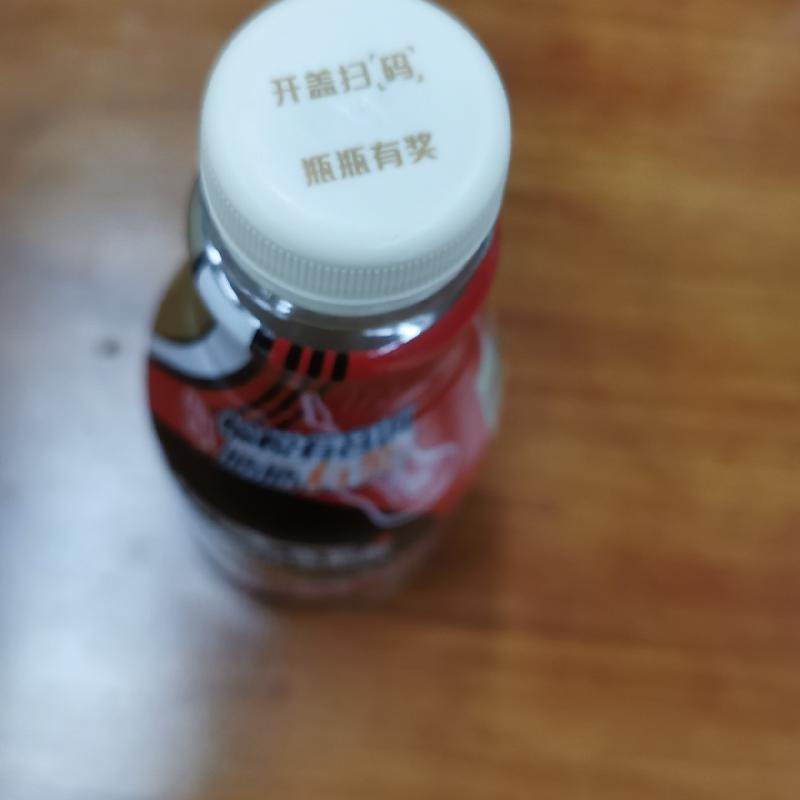bottles: (139, 9, 519, 609)
